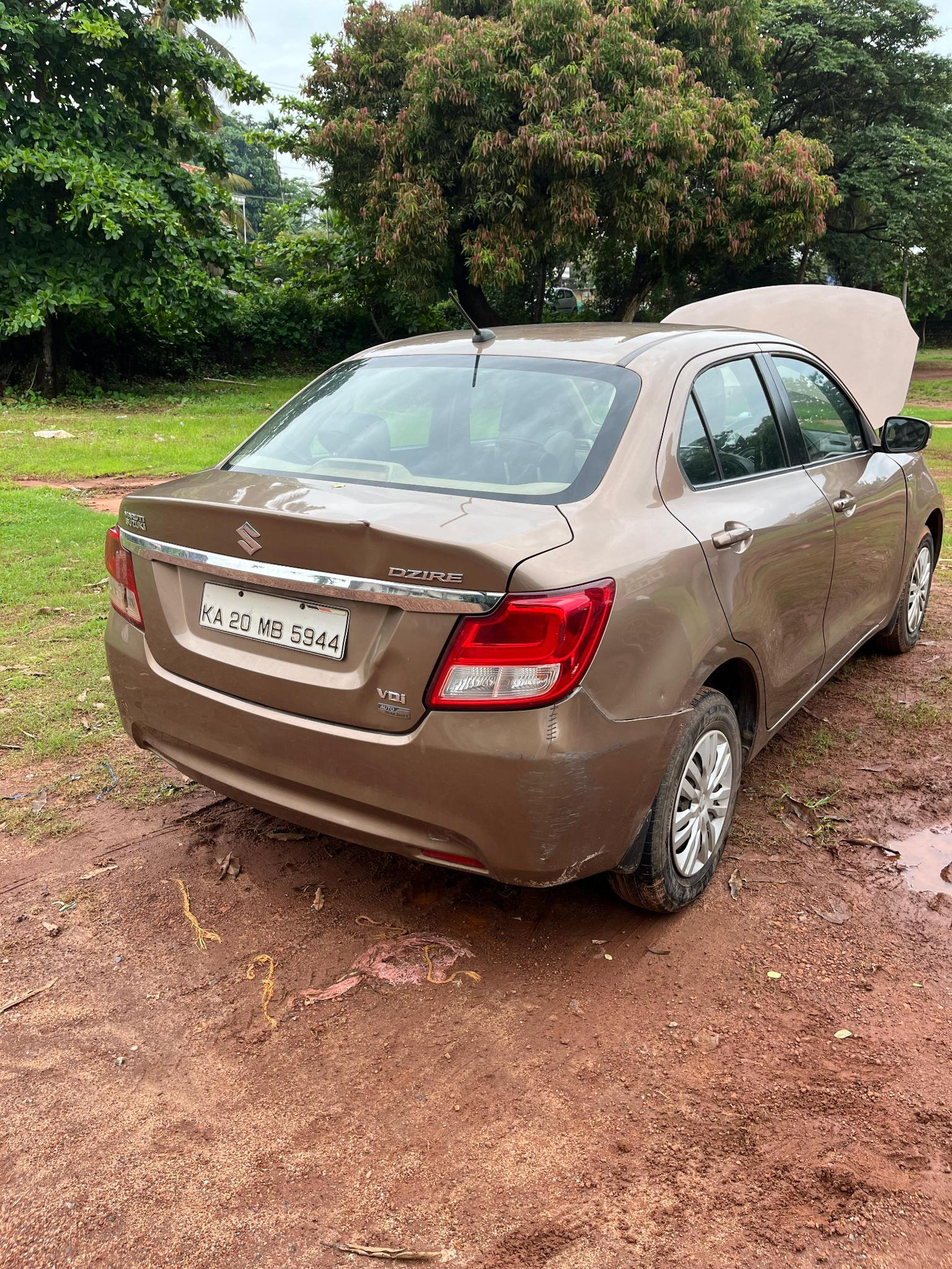car: (103, 282, 936, 921)
